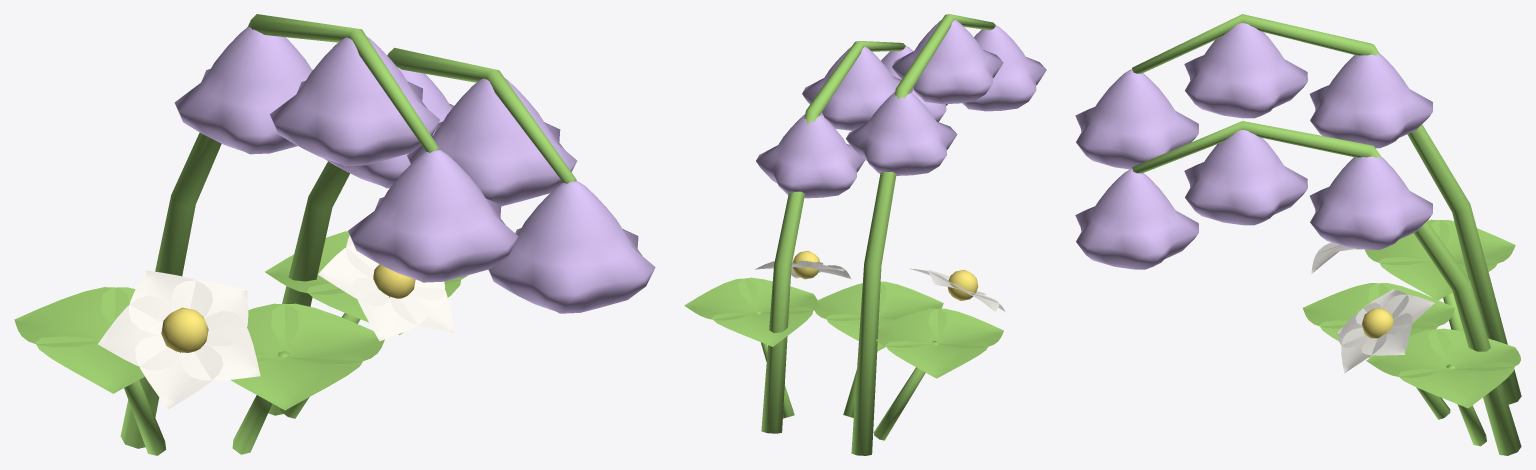
Rendered from bellflower_arch.glb.
3 views of the same model, side by side, from view 1: azimuth 30°, elevation 25°; view 2: azimuth 150°, elevation 25°; view 3: azimuth 270°, elevation 25° (orthographic). The views are drawn at different scales.
Visible parts, largest first — view 1: SM_Forest_BellflowerArch; view 2: SM_Forest_BellflowerArch; view 3: SM_Forest_BellflowerArch.
Boxes of the visible parts, x1,y1,x2,y2 form: SM_Forest_BellflowerArch: (14,14,655,455); SM_Forest_BellflowerArch: (684,14,1046,455); SM_Forest_BellflowerArch: (1075,14,1521,455).
Size of the model in its own units: 1.43 by 1.64 by 1.64.
